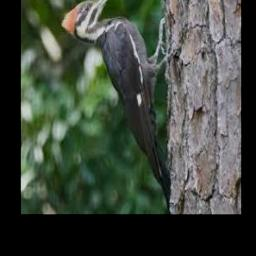Woodpecker: (60, 0, 172, 212)
